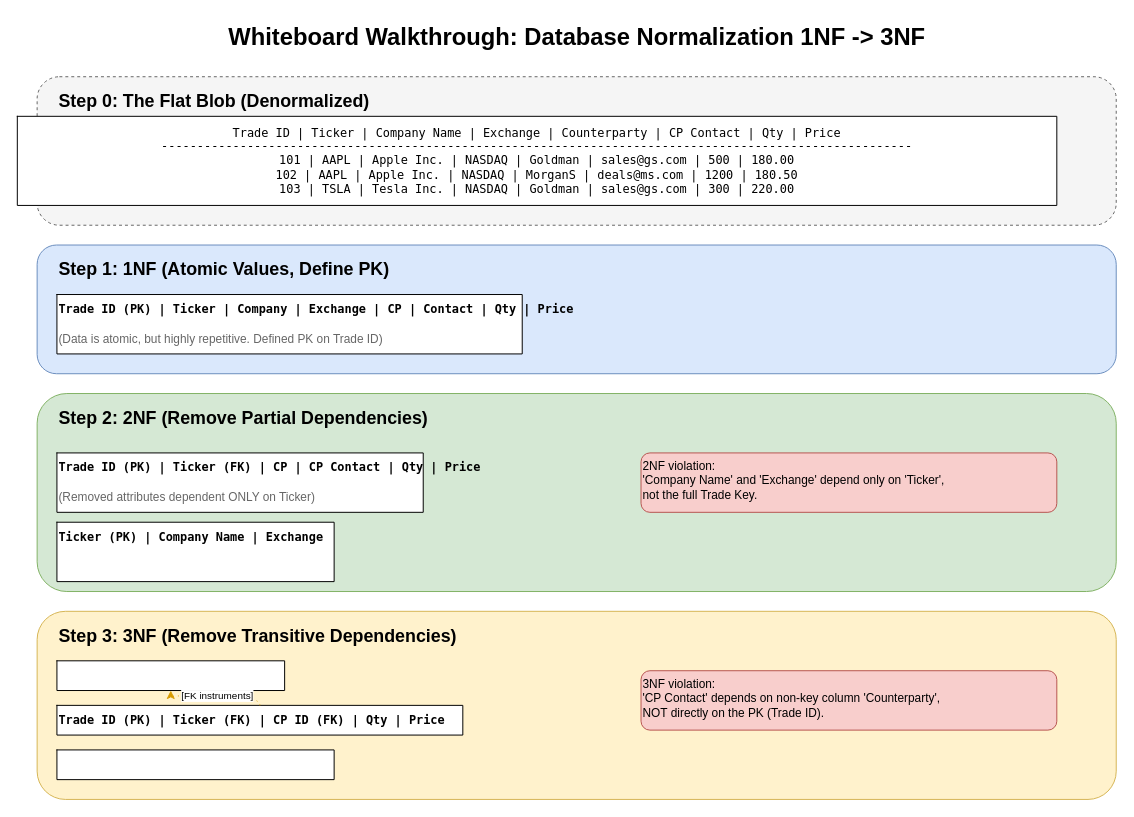
Image size: 1134x817. Some labels were removed from this diagram. The shapes that lost their labels are listed below. From the top down, each one's box as (x1, y1, x2, y2) in pixels, then its label:
(56, 660, 285, 691): Ticker (PK) | Company | Exchange
(56, 749, 334, 780): CP ID (PK) | Name | Contact Email
